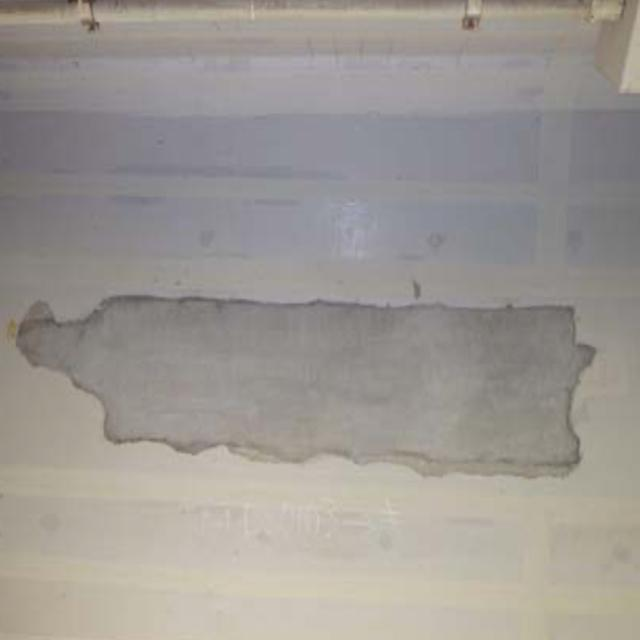spalling: (20, 263, 603, 501)
